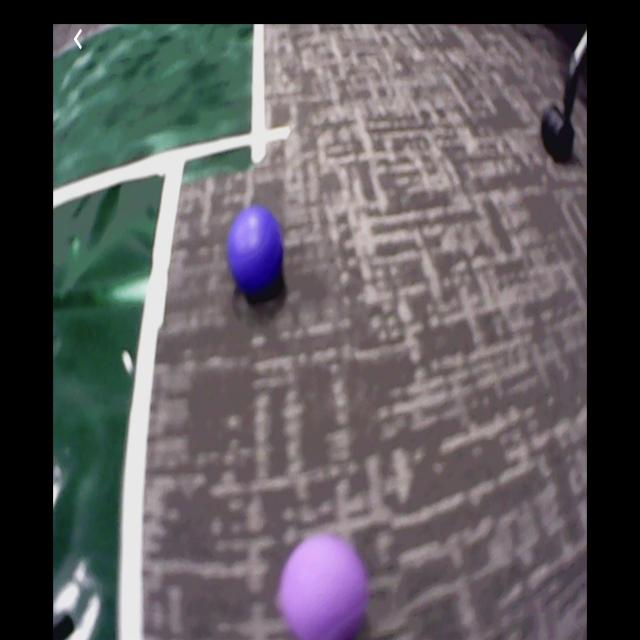ball: (283, 535, 364, 636), (228, 208, 284, 294)
